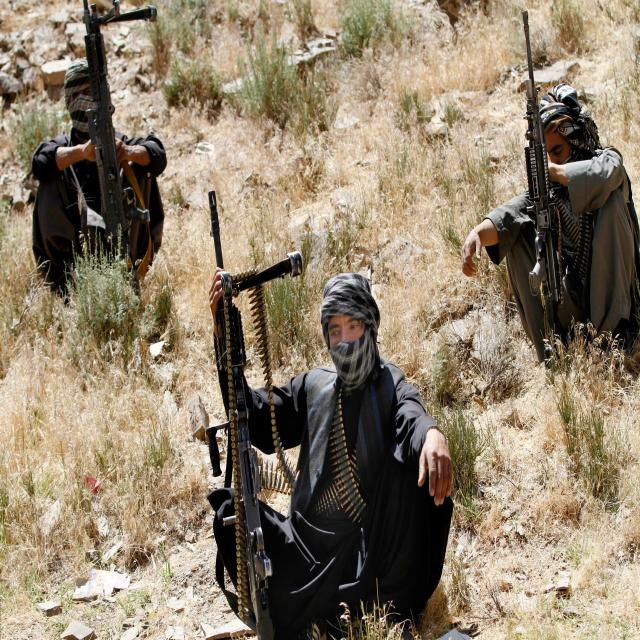Militant: (193, 157, 457, 640), (462, 0, 640, 385), (32, 19, 170, 316)
